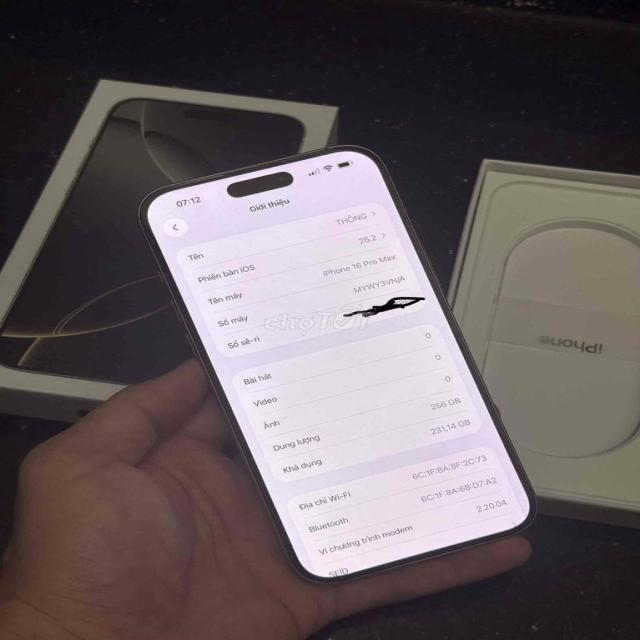gen_16: (141, 146, 532, 582)
